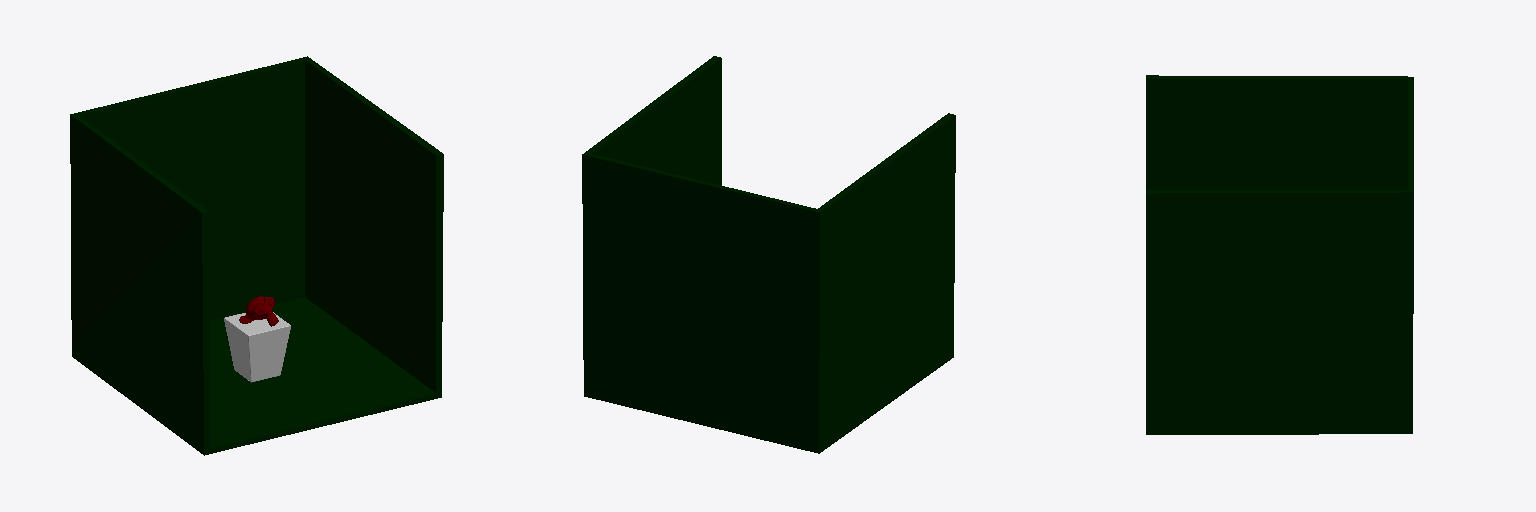
Rendered from wmaterial.obj.
3 renders of one model, left to right at view 1: azimuth 30°, elevation 25°; view 2: azimuth 150°, elevation 25°; view 3: azimuth 270°, elevation 25°, orthographic.
Visible parts, largest first — view 1: Room, Podium, Suzanne; view 2: Room; view 3: Room.
Part boxes in pixels (x1,y1,x2,y2): Room: (70,56,443,455); Podium: (224,312,290,382); Suzanne: (239,296,278,326); Room: (582,56,955,453); Room: (1146,75,1413,434).
Bounding box in the file's own units: 3.2 × 3.07 × 3.07.